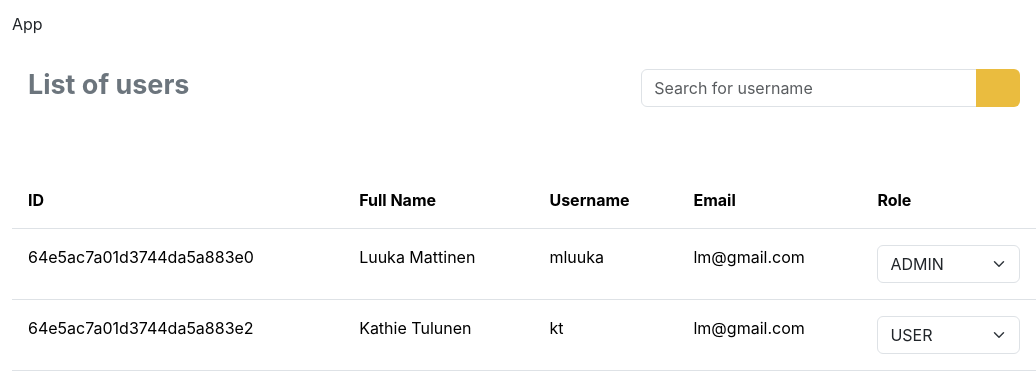
Scenario: <UsersManagement /> › when logged in user is admin › searching for username › when username is available in the database › shows the correct content
Type "kt" into the field with placeholder "Search for username" at {"x": 809, "y": 88}, box [641,69,977,107]
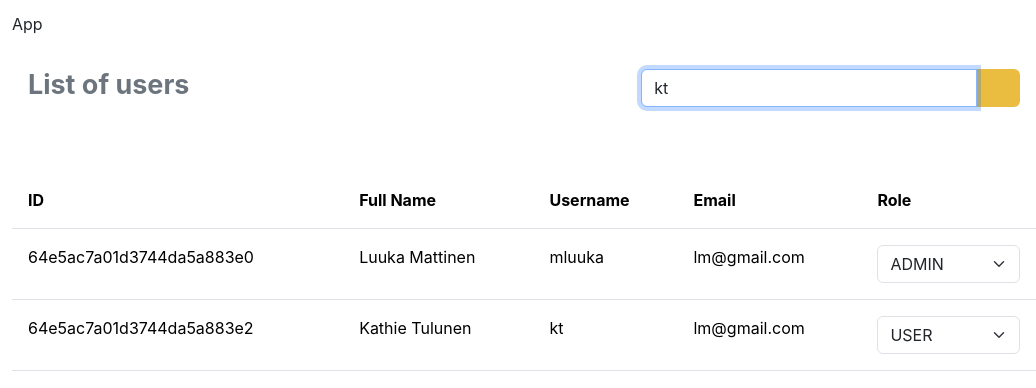
Click the button with test id "searchUserNameBtn" at {"x": 998, "y": 88}, box [976,69,1020,107]
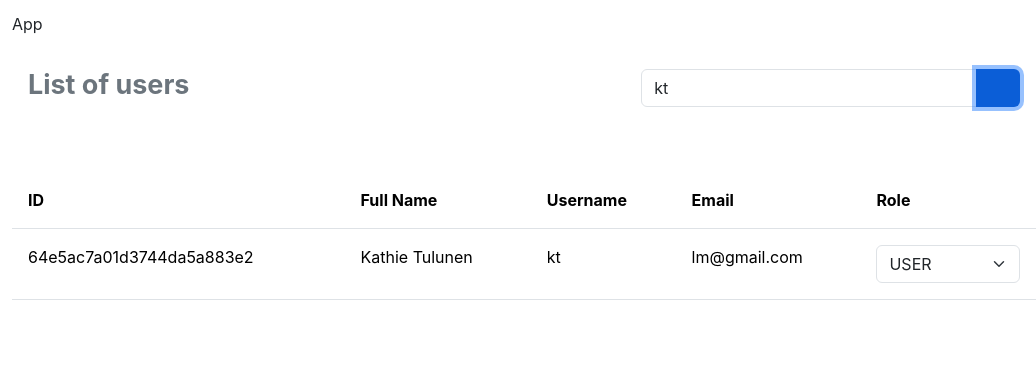
Expected: the text "kt" is shown, [531,229,676,300]
Result: the number of rows with test id "userManagementRow" is 1 at [12,229,1035,300]
